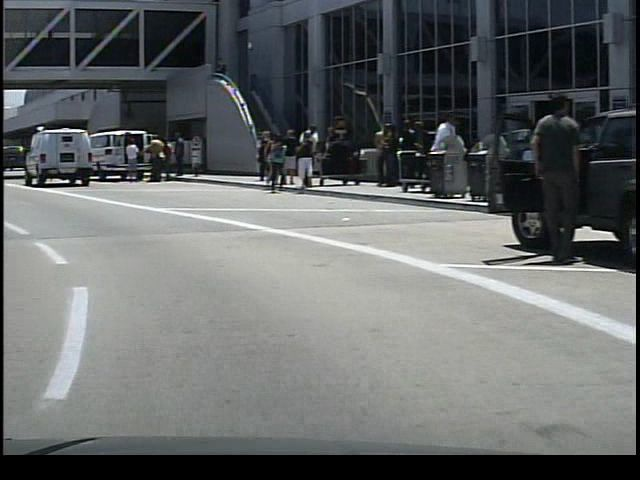person: (514, 84, 584, 270), (422, 109, 457, 200), (295, 123, 321, 188), (288, 140, 311, 192), (164, 131, 186, 179), (142, 133, 162, 185), (250, 126, 266, 185), (121, 136, 139, 186)
